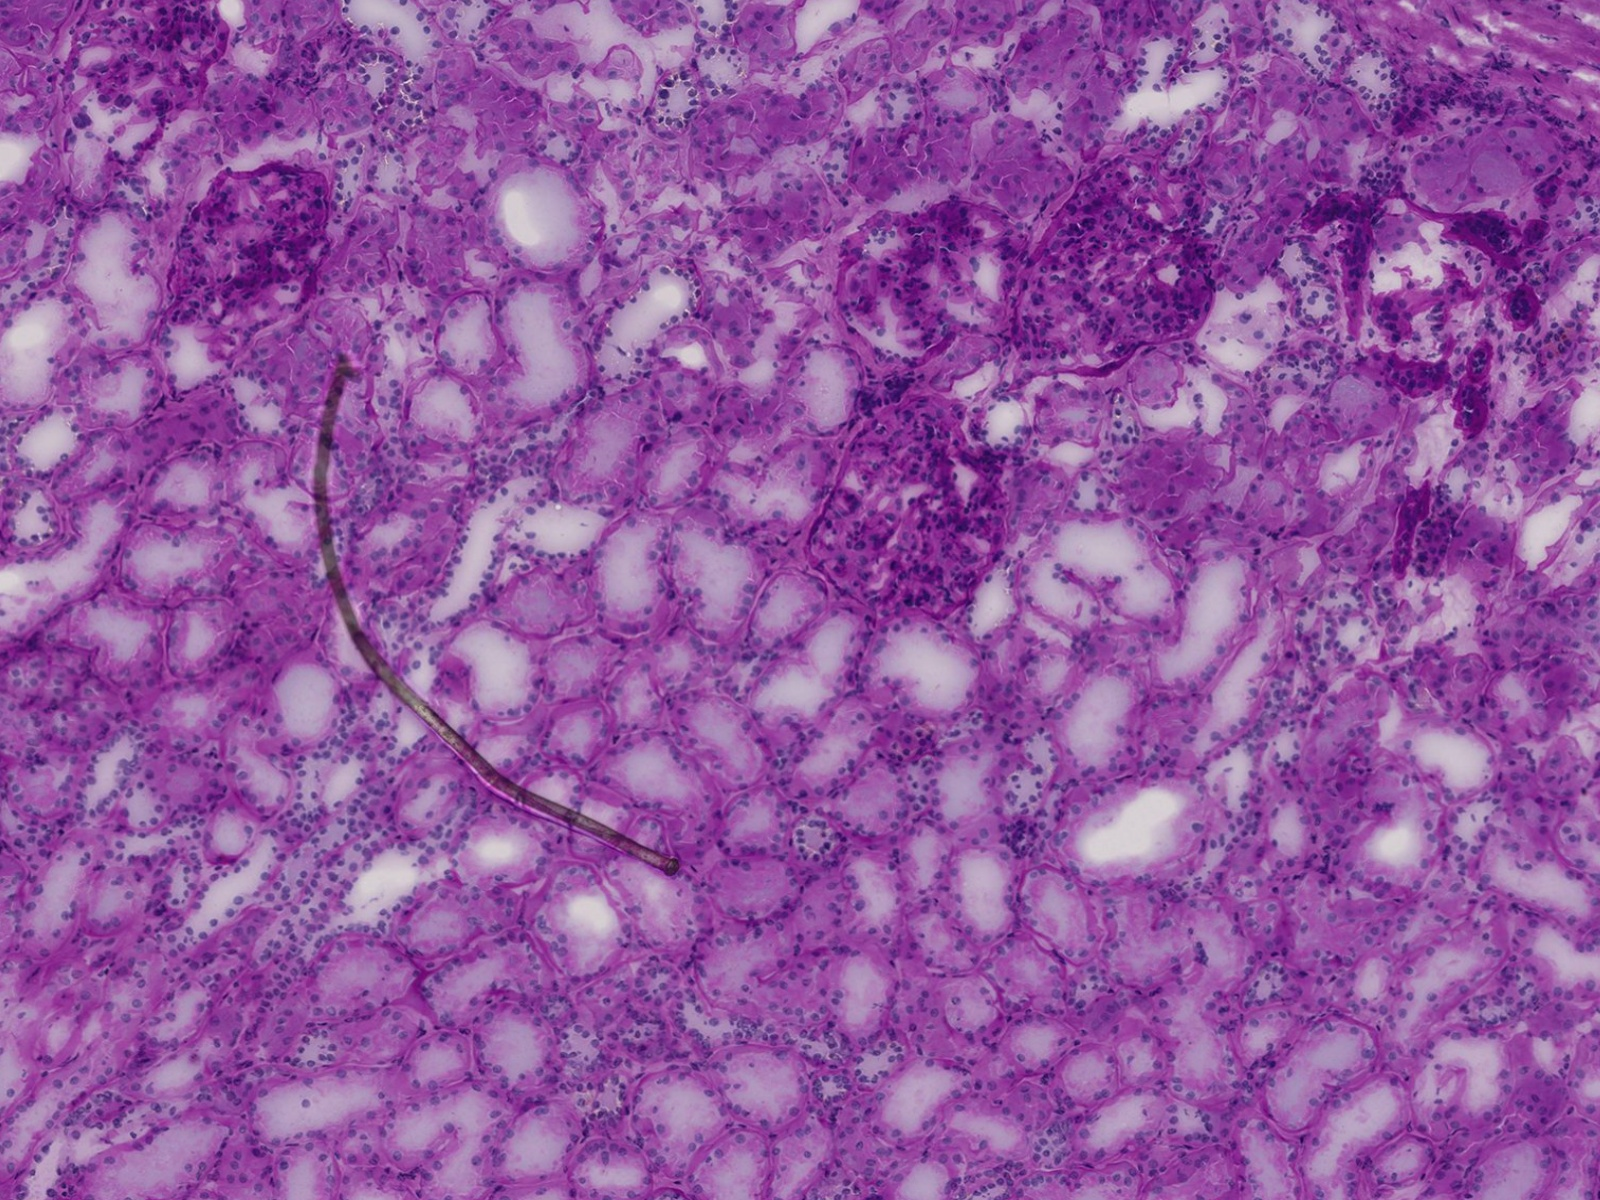Glomeruli: (989, 149, 1221, 391), (804, 391, 1015, 614), (157, 158, 345, 342), (826, 194, 1020, 358), (62, 3, 227, 129)
